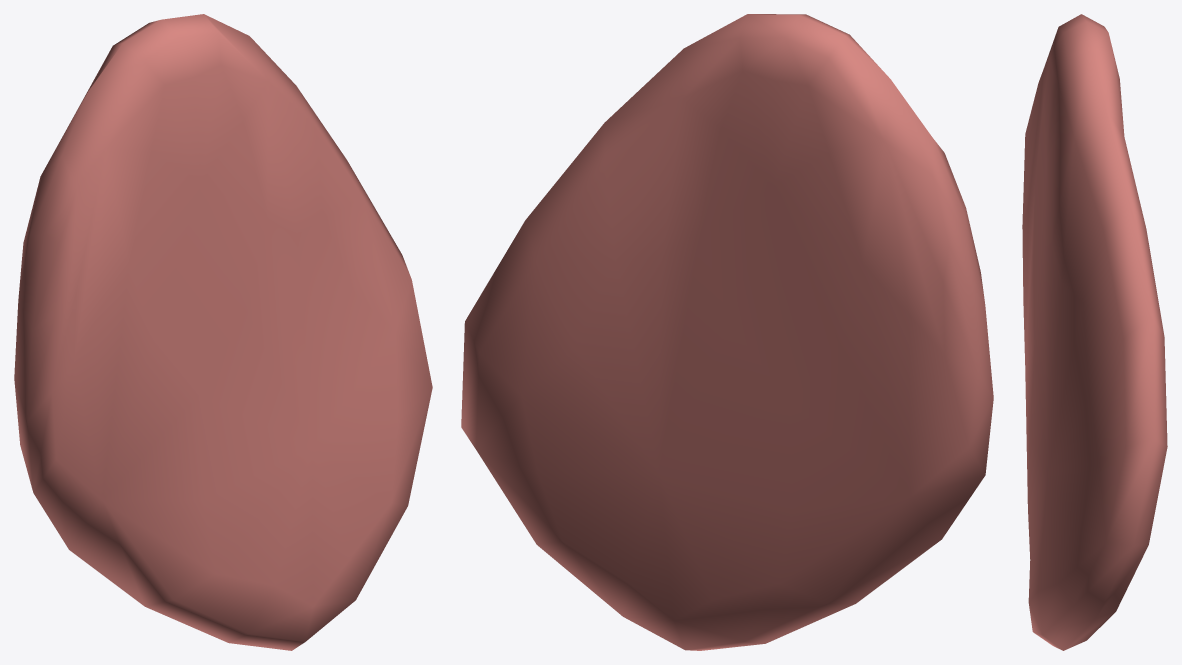
3 renders of one model, left to right at view 1: azimuth 30°, elevation 25°; view 2: azimuth 150°, elevation 25°; view 3: azimuth 270°, elevation 25°, orthographic. The views are drawn at different scales.
Visible parts, largest first — view 1: ZA_f59efa9929c52bf7; view 2: ZA_f59efa9929c52bf7; view 3: ZA_f59efa9929c52bf7.
Boxes of the visible parts, bbox=[...] form: ZA_f59efa9929c52bf7: bbox=[14, 14, 432, 650]; ZA_f59efa9929c52bf7: bbox=[461, 14, 993, 650]; ZA_f59efa9929c52bf7: bbox=[1022, 14, 1167, 650].
Bounding box in the file's own units: 0.00343 × 0.00466 × 0.00107.
